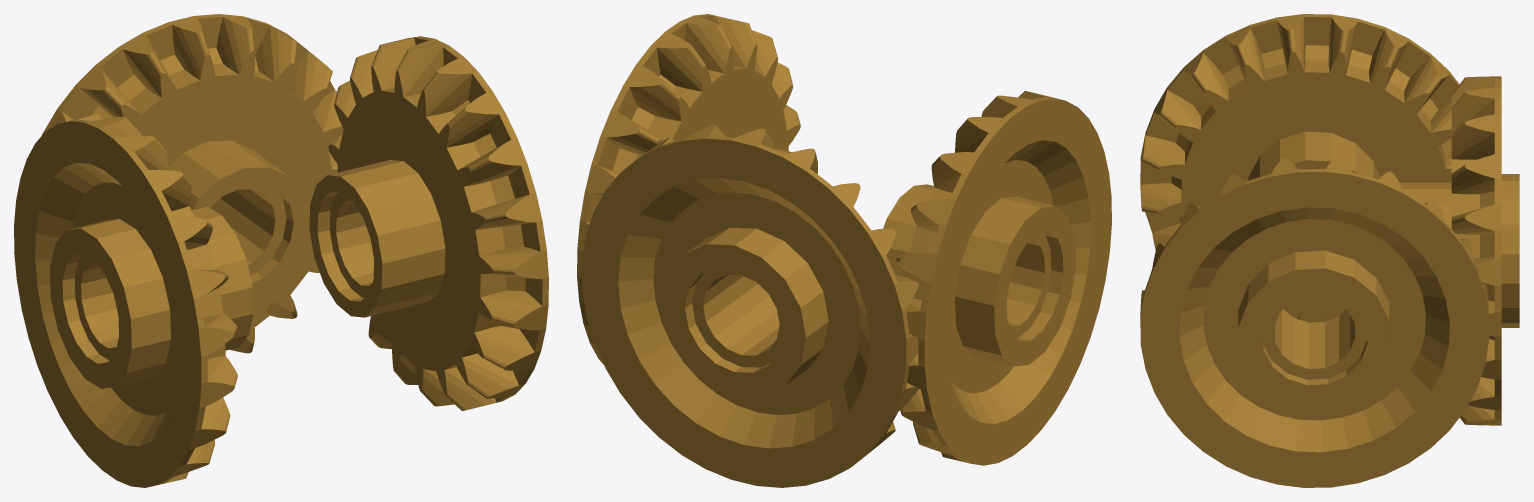
File: ThreeGears.dae
The picture shows the model from 3 angles, left to right: view 1: azimuth 30°, elevation 25°; view 2: azimuth 150°, elevation 25°; view 3: azimuth 270°, elevation 25°; orthographic projection. The views are drawn at different scales.
Visible parts, largest first — view 1: Part_87407.2, Part_87407.3, Part_87407.1; view 2: Part_87407.1, Part_87407.2, Part_87407.3; view 3: Part_87407.3, Part_87407.2, Part_87407.1.
Boxes of the visible parts, box(x1,y1,x2,y2) form: Part_87407.2: box(14, 113, 253, 487); Part_87407.3: box(309, 36, 548, 410); Part_87407.1: box(42, 14, 343, 353); Part_87407.1: box(582, 124, 918, 487); Part_87407.2: box(883, 91, 1111, 465); Part_87407.3: box(577, 14, 800, 364); Part_87407.3: box(1140, 157, 1489, 487); Part_87407.2: box(1140, 14, 1459, 322); Part_87407.1: box(1400, 76, 1519, 425).
Size of the model in its own units: 23.92 by 20.4 by 22.14.
